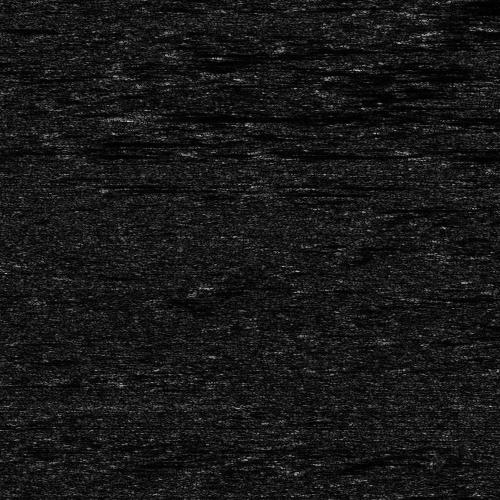rock: (228, 144, 321, 161), (401, 26, 494, 39), (71, 109, 164, 122), (400, 151, 473, 160), (42, 152, 105, 157), (42, 139, 95, 144), (259, 189, 290, 194)
shadow: (275, 144, 500, 161), (118, 109, 362, 122), (69, 139, 205, 144), (448, 26, 500, 39), (437, 151, 500, 160), (74, 152, 176, 157), (275, 189, 350, 194)
